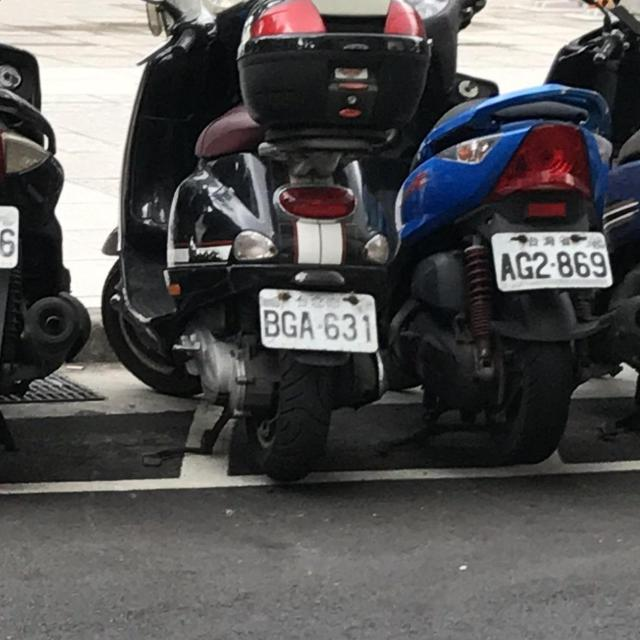W: (244, 274, 388, 362), (481, 220, 618, 300), (0, 198, 26, 275)
